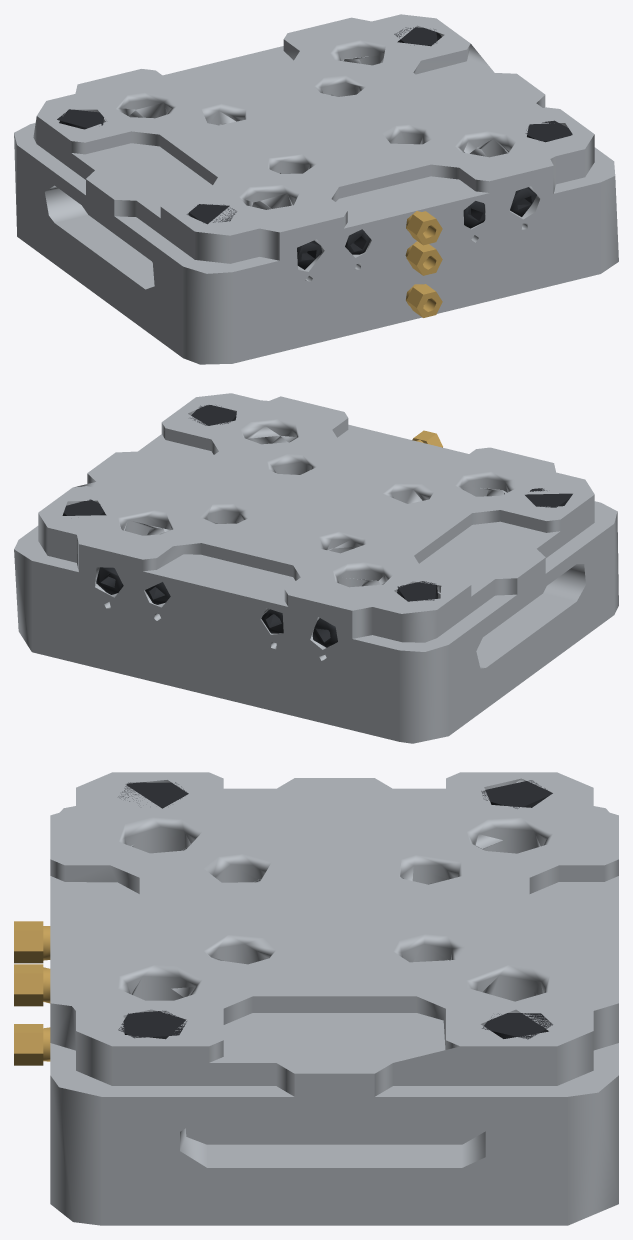
The model's file is plate-8287a.glb.
3 views of the same model, one above another, from view 1: azimuth 30°, elevation 25°; view 2: azimuth 150°, elevation 25°; view 3: azimuth 270°, elevation 25° (orthographic). The views are drawn at different scales.
Visible parts, largest first — view 1: body_mesh; view 2: body_mesh; view 3: body_mesh.
Boxes of the visible parts, <box> form: body_mesh: <box>14,14,618,364</box>; body_mesh: <box>14,393,618,743</box>; body_mesh: <box>14,772,618,1225</box>.
Size of the model in its own units: 192 by 51.01 by 166.
